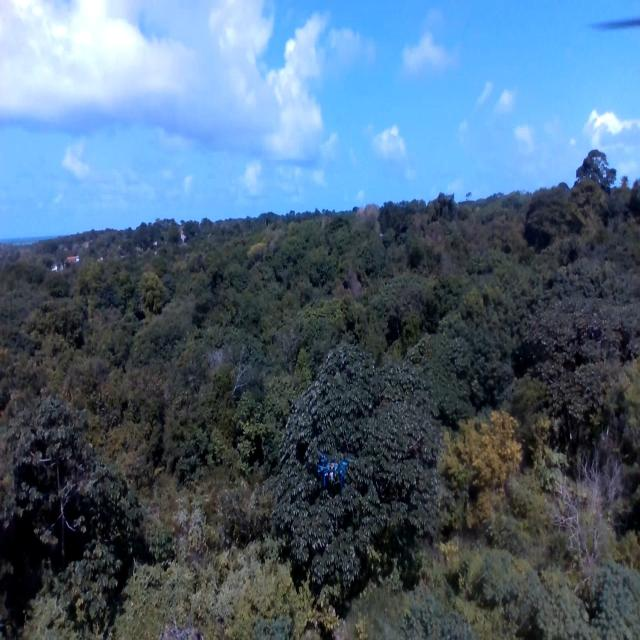-uav-: (313, 452, 359, 501)
